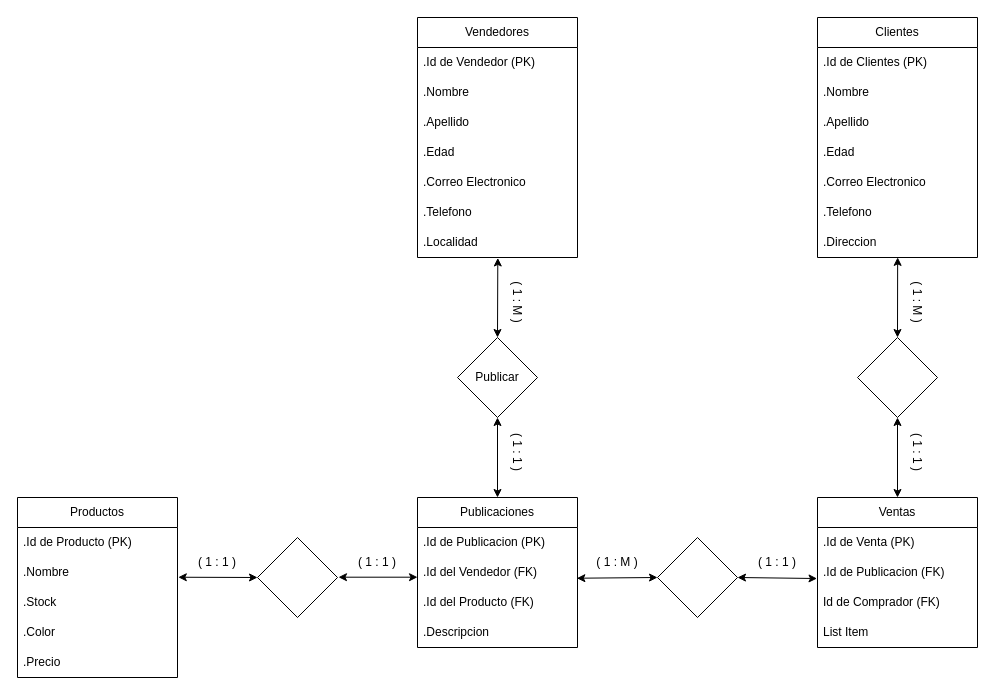
This 995x695 diagram has some shape labels left out. Each missing label, with the centre of its shape:
Comprar: [897,377]
Rellenar: [297,577]
Vender: [697,577]
